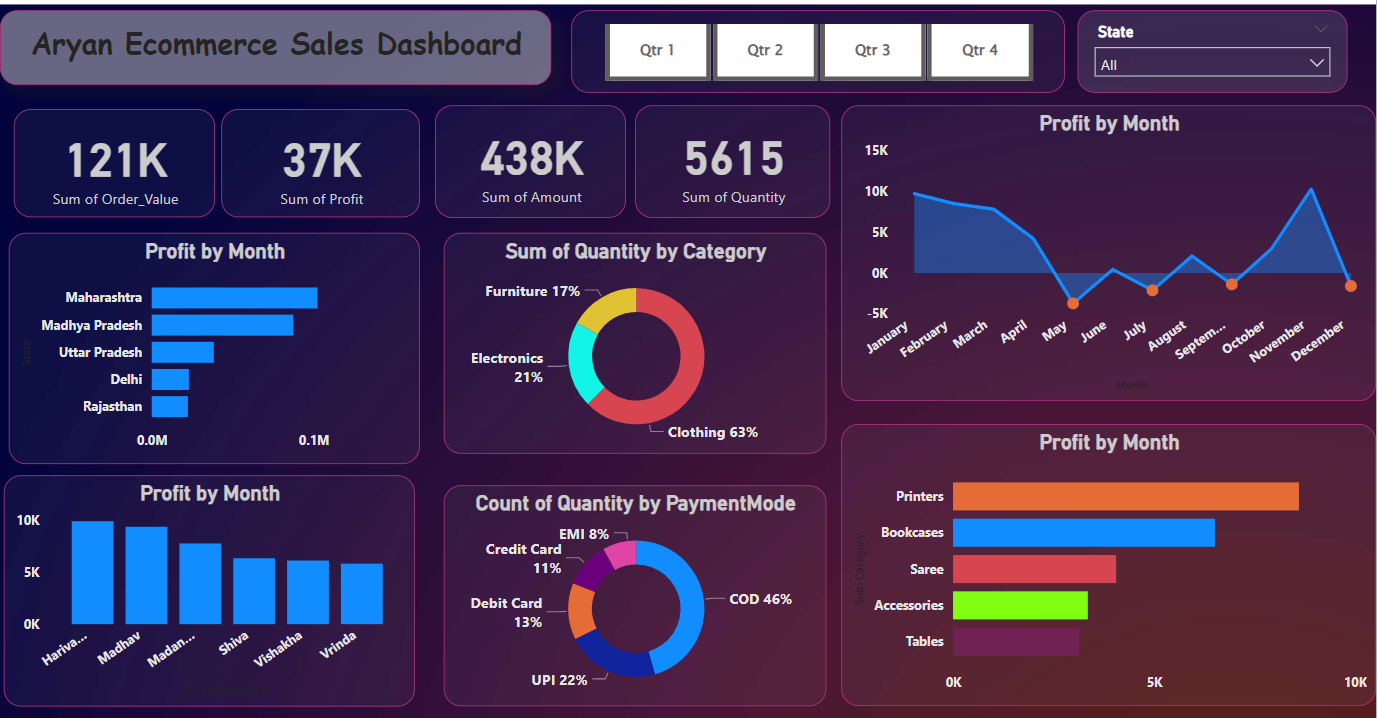

Layout of this report page (visuals, bound fields, positions):
{"tool":"powerbi","page":{"name":"Page 1","canvas":[1280,720],"ordinal":0},"visuals":[{"type":"textbox","box":[0,29.1,512.8,69.8],"z":0},{"type":"columnChart","title":"Profit by Month","fields":{"Category":["Orders (1).Order Date.Variation.Date Hierarchy.Month"],"Y":["Details.Profit"]},"box":[782.6,117.4,497.7,275.6],"z":1000},{"type":"barChart","title":"Profit by Month","fields":{"Category":["Details.Sub-Category"],"Y":["Details.Profit"]},"box":[782.6,414,497.7,262.8],"z":2000},{"type":"donutChart","fields":{"Category":["Details.Category"],"Y":["Details.Quantity"]},"box":[412.8,236,355.8,205.8],"z":3000},{"type":"donutChart","fields":{"Category":["Details.PaymentMode"],"Y":["Details.Quantity"]},"box":[412.8,470.9,355.8,205.8],"z":4000},{"type":"card","fields":{"Values":["Details.Profit"]},"box":[205.8,120.9,184.9,101.2],"z":4001},{"type":"card","fields":{"Values":["Details.Order_Value"]},"box":[12.8,120.9,187.2,101.2],"z":4002},{"type":"card","fields":{"Values":["Details.Amount"]},"box":[404.7,117.4,177.9,104.7],"z":4003},{"type":"card","fields":{"Values":["Details.Quantity"]},"box":[590.7,117.4,181.4,104.7],"z":4004},{"type":"barChart","title":"Profit by Month","fields":{"Category":["Orders (1).State"],"Y":["Details.Amount"]},"box":[8.1,236,382.6,215.1],"z":4005},{"type":"columnChart","title":"Profit by Month","fields":{"Category":["Orders (1).CustomerName"],"Y":["Details.Amount"]},"box":[3.5,461.6,382.6,215.1],"z":4006},{"type":"slicer","fields":{"Values":["Orders (1).Order Date.Variation.Date Hierarchy.Quarter"]},"box":[531.4,29.1,459.3,76.7],"z":4007},{"type":"slicer","title":"States","fields":{"Values":["Orders (1).State"]},"box":[1002.3,29.1,251.2,76.7],"z":4008}]}

Visuals, with their boxes in screenshot pixels (x1, y1, x2, y2):
textbox: {"x1": 158, "y1": 0, "x2": 644, "y2": 65}
"Profit by Month" columnChart: {"x1": 900, "y1": 83, "x2": 1372, "y2": 344}
"Profit by Month" barChart: {"x1": 900, "y1": 364, "x2": 1372, "y2": 613}
donutChart - Details.Category x Details.Quantity: {"x1": 549, "y1": 195, "x2": 887, "y2": 390}
donutChart - Details.PaymentMode x Details.Quantity: {"x1": 549, "y1": 418, "x2": 887, "y2": 613}
card - Details.Profit: {"x1": 353, "y1": 86, "x2": 528, "y2": 182}
card - Details.Order_Value: {"x1": 170, "y1": 86, "x2": 348, "y2": 182}
card - Details.Amount: {"x1": 542, "y1": 83, "x2": 710, "y2": 182}
card - Details.Quantity: {"x1": 718, "y1": 83, "x2": 890, "y2": 182}
"Profit by Month" barChart: {"x1": 166, "y1": 195, "x2": 528, "y2": 399}
"Profit by Month" columnChart: {"x1": 161, "y1": 409, "x2": 524, "y2": 613}
slicer - Orders (1).Order Date.Variation.Date Hierarchy.Quarter: {"x1": 662, "y1": 0, "x2": 1097, "y2": 72}
"States" slicer: {"x1": 1108, "y1": 0, "x2": 1346, "y2": 72}
